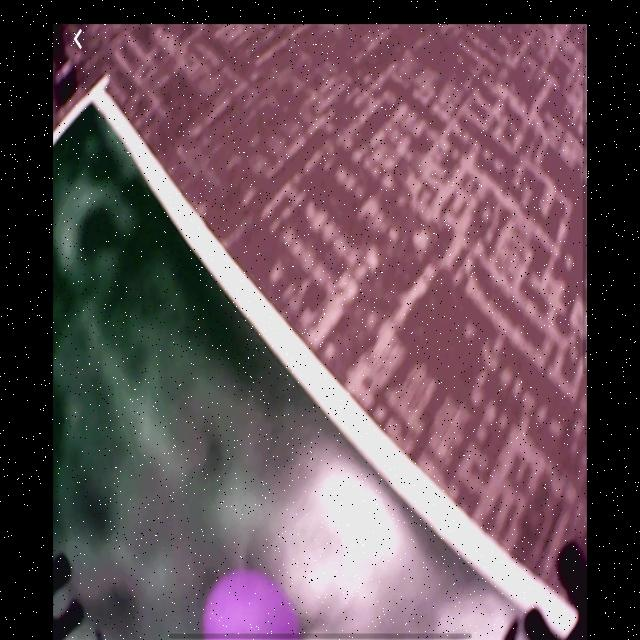ball: (201, 573, 303, 640)
